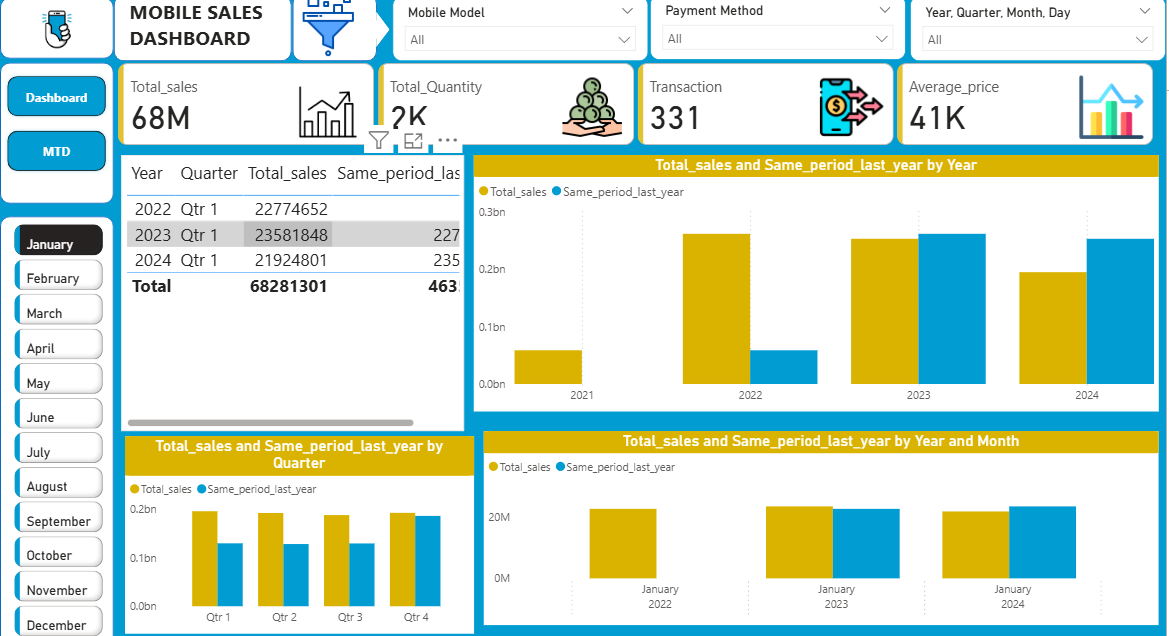

The page's visual inventory and layout, read from the dashboard file:
{"tool":"powerbi","page":{"name":"Same period last","canvas":[1280,720],"ordinal":2},"visuals":[{"type":"shape","box":[0,8.2,124.9,67.2],"z":0},{"type":"image","box":[23.3,11,78.2,64.5],"z":1000},{"type":"shape","box":[0,79.6,124.9,155.1],"z":2000},{"type":"cardVisual","fields":{"Data":["Sales_data.Total_sales","Sales_data.Total_Quantity","Sales_data.Transaction","Sales_data.Average_price"]},"box":[124.9,75.5,1147.2,100.2],"z":3000},{"type":"slicer","fields":{"Values":["Sales_data.Mobile Model"]},"box":[430.5,7.1,280.8,71.3],"z":4000},{"type":"slicer","fields":{"Values":["Custom_Calender.Date.Variation.Date Hierarchy.Year","Custom_Calender.Date.Variation.Date Hierarchy.Quarter","Custom_Calender.Date.Variation.Date Hierarchy.Month","Custom_Calender.Date.Variation.Date Hierarchy.Day"]},"box":[999.2,7.1,280.8,71.3],"z":5000},{"type":"slicer","fields":{"Values":["Sales_data.Payment Method"]},"box":[714.1,5.7,280.8,71.3],"z":6000},{"type":"shape","box":[320.7,4.3,92.7,74.1],"z":7000},{"type":"shape","box":[397.7,22.8,29.9,39.9],"z":8000},{"type":"image","box":[320.7,0,78.4,78.4],"z":9000},{"type":"shape","box":[125.4,5.7,195.3,72.7],"z":10000},{"type":"textbox","box":[136.8,4.3,170,70],"z":11000},{"type":"shape","box":[0,248.4,124.9,472],"z":12000},{"type":"advancedSlicerVisual","fields":{"Values":["Custom_Calender.Date.Variation.Date Hierarchy.Month"]},"box":[11,252.1,107,467.9],"z":13000},{"type":"tableEx","fields":{"Values":["Custom_Calender.Date.Variation.Date Hierarchy.Year","Custom_Calender.Date.Variation.Date Hierarchy.Quarter","Sales_data.Total_sales","Sales_data.Same_period_last_year"]},"box":[133.1,181.1,376,303.3],"z":14000},{"type":"clusteredColumnChart","fields":{"Category":["Custom_Calender.Date.Variation.Date Hierarchy.Year","Custom_Calender.Date.Variation.Date Hierarchy.Quarter"],"Y":["Sales_data.Total_sales","Sales_data.Same_period_last_year"]},"box":[520.1,181.1,752,281.3],"z":15000},{"type":"clusteredColumnChart","fields":{"Category":["Custom_Calender.Date.Variation.Date Hierarchy.Year","Custom_Calender.Date.Variation.Date Hierarchy.Quarter"],"Y":["Sales_data.Total_sales","Sales_data.Same_period_last_year"]},"box":[137.2,489.9,382.8,216.8],"z":16000},{"type":"clusteredColumnChart","fields":{"Y":["Sales_data.Total_sales","Sales_data.Same_period_last_year"],"Category":["Custom_Calender.Date.Variation.Date Hierarchy.Year","Custom_Calender.Date.Variation.Date Hierarchy.Month","Custom_Calender.Date.Variation.Date Hierarchy.Day"]},"box":[531,484.4,741,212.7],"z":17000},{"type":"pageNavigator","box":[4.1,90.6,116.6,112.5],"z":18000}]}

Visuals, with their boxes on the page's 1280x720 design canvas (x1, y1, x2, y2). These are canvas units, not pixel positions in the 1169x636 screenshot, which may show the page scaled, cropped or inside an application window:
shape: <bbox>0, 8, 125, 75</bbox>
image: <bbox>23, 11, 102, 76</bbox>
shape: <bbox>0, 80, 125, 235</bbox>
cardVisual - Sales_data.Total_sales x Sales_data.Total_Quantity: <bbox>125, 76, 1272, 176</bbox>
slicer - Sales_data.Mobile Model: <bbox>430, 7, 711, 78</bbox>
slicer - Custom_Calender.Date.Variation.Date Hierarchy.Year x Custom_Calender.Date.Variation.Date Hierarchy.Quarter: <bbox>999, 7, 1280, 78</bbox>
slicer - Sales_data.Payment Method: <bbox>714, 6, 995, 77</bbox>
shape: <bbox>321, 4, 413, 78</bbox>
shape: <bbox>398, 23, 428, 63</bbox>
image: <bbox>321, 0, 399, 78</bbox>
shape: <bbox>125, 6, 321, 78</bbox>
textbox: <bbox>137, 4, 307, 74</bbox>
shape: <bbox>0, 248, 125, 720</bbox>
advancedSlicerVisual - Custom_Calender.Date.Variation.Date Hierarchy.Month: <bbox>11, 252, 118, 720</bbox>
tableEx - Custom_Calender.Date.Variation.Date Hierarchy.Year x Custom_Calender.Date.Variation.Date Hierarchy.Quarter: <bbox>133, 181, 509, 484</bbox>
clusteredColumnChart - Custom_Calender.Date.Variation.Date Hierarchy.Year x Custom_Calender.Date.Variation.Date Hierarchy.Quarter: <bbox>520, 181, 1272, 462</bbox>
clusteredColumnChart - Custom_Calender.Date.Variation.Date Hierarchy.Year x Custom_Calender.Date.Variation.Date Hierarchy.Quarter: <bbox>137, 490, 520, 707</bbox>
clusteredColumnChart - Sales_data.Total_sales x Sales_data.Same_period_last_year: <bbox>531, 484, 1272, 697</bbox>
pageNavigator: <bbox>4, 91, 121, 203</bbox>
